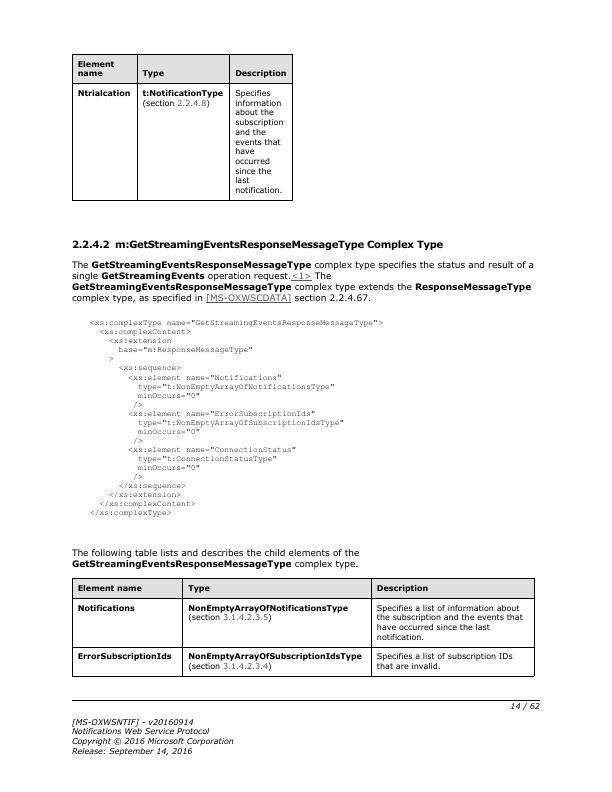table: (71, 577, 537, 681), (70, 52, 293, 203)
text: (82, 317, 387, 519), (70, 258, 537, 303), (67, 715, 234, 760), (68, 546, 361, 571), (67, 236, 446, 251)
